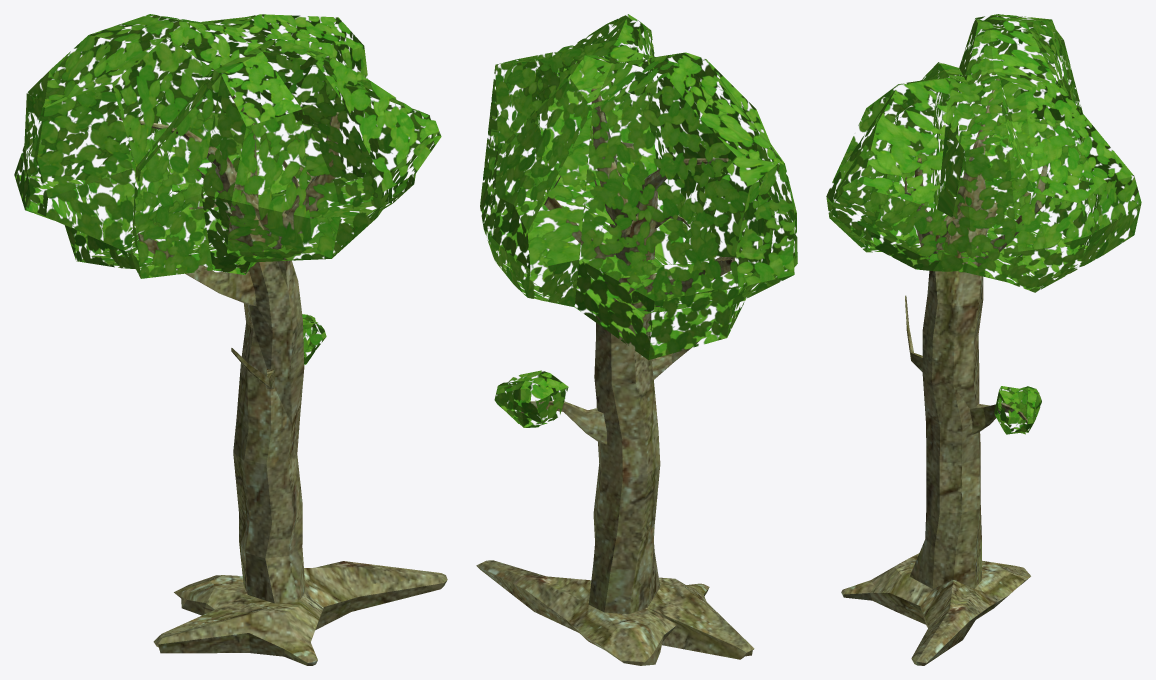
File: SpringTree.glb
3 renders of one model, left to right at view 1: azimuth 30°, elevation 25°; view 2: azimuth 150°, elevation 25°; view 3: azimuth 270°, elevation 25°, orthographic. The views are drawn at different scales.
Parts seen in each view (by area): view 1: Cube, Plane, Cube.001; view 2: Cube, Plane, Cube.001; view 3: Cube, Plane, Cube.001.
Boxes of the visible parts, box(x1,y1,x2,y2) form: Cube: box(14, 14, 441, 278); Plane: box(119, 95, 447, 665); Cube.001: box(302, 314, 326, 365); Cube: box(480, 14, 797, 360); Plane: box(476, 88, 754, 665); Cube.001: box(494, 370, 568, 427); Cube: box(826, 14, 1141, 292); Plane: box(841, 79, 1047, 665); Cube.001: box(994, 386, 1041, 434).
Size of the model in its own units: 12.54 by 19.97 by 10.16.
3 materials, 3 textured.
